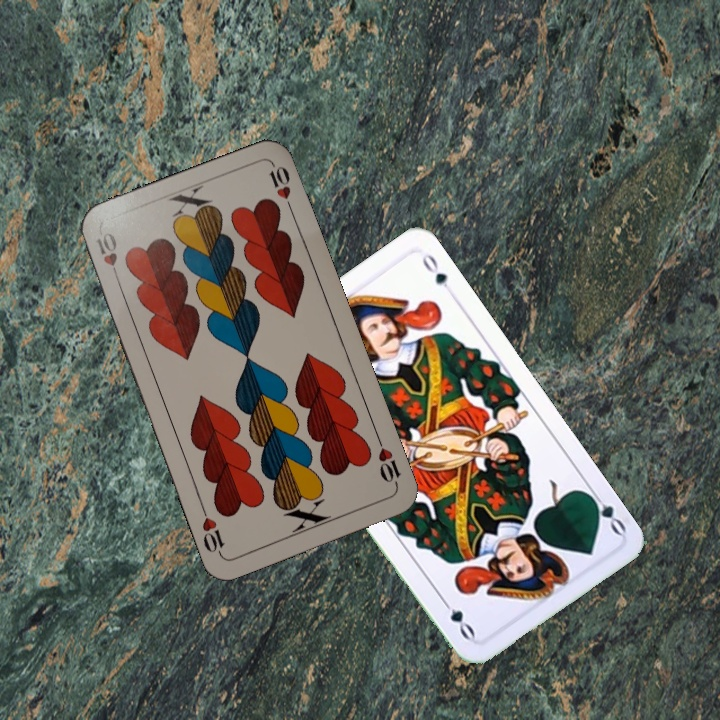GO: (582, 484, 629, 538)
H10: (372, 433, 403, 490), (92, 228, 122, 285)
